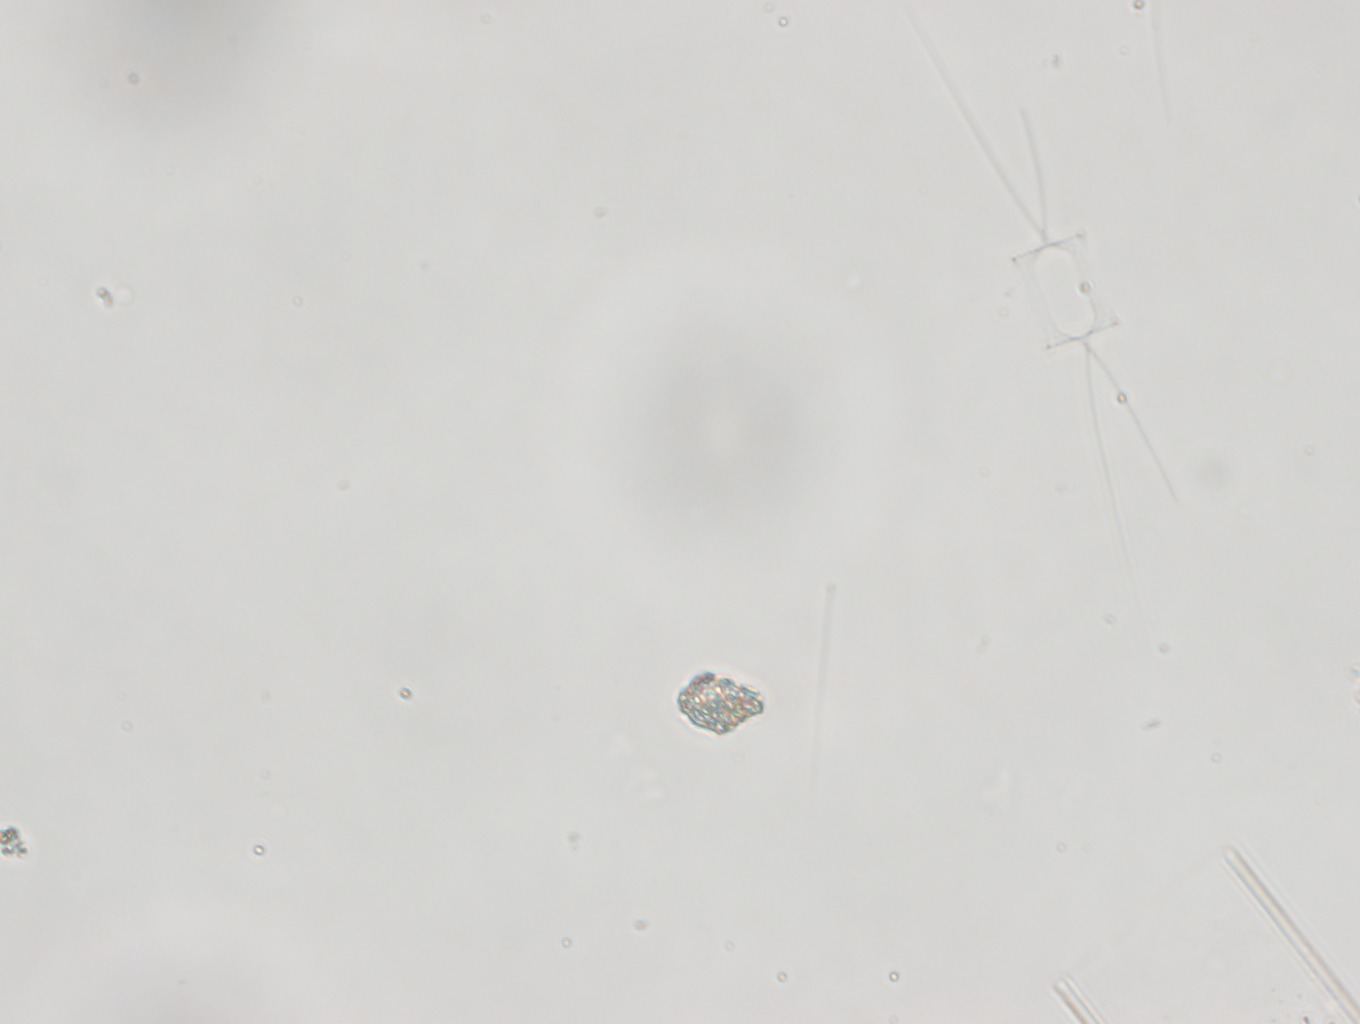chaetoceros: (924, 19, 1204, 584)
